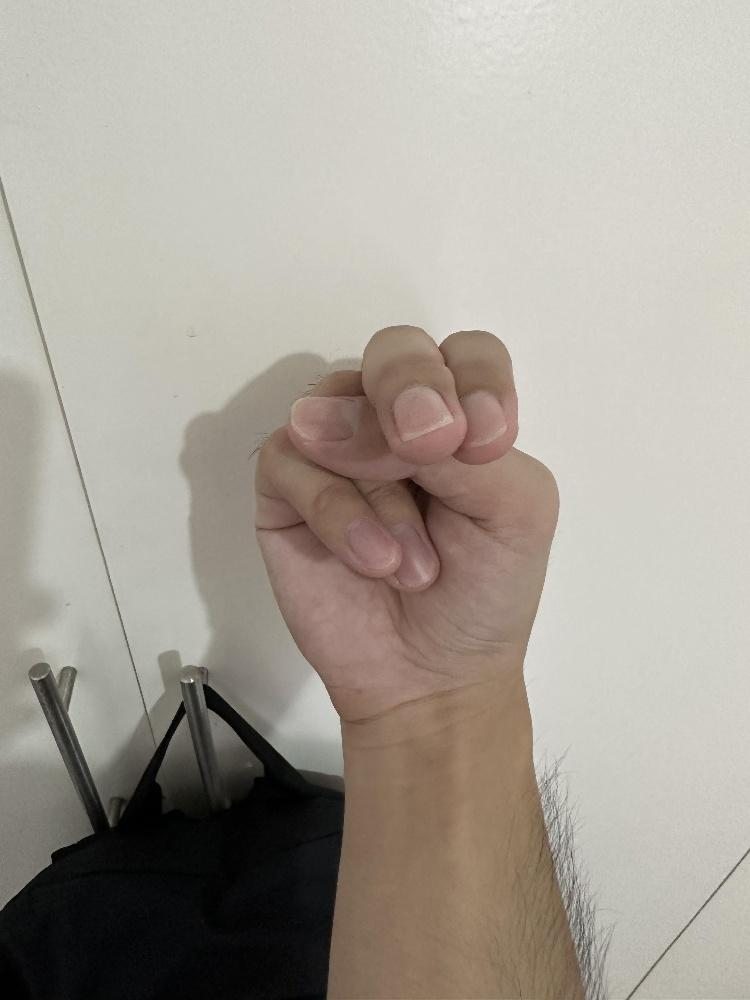n: (248, 317, 561, 724)
